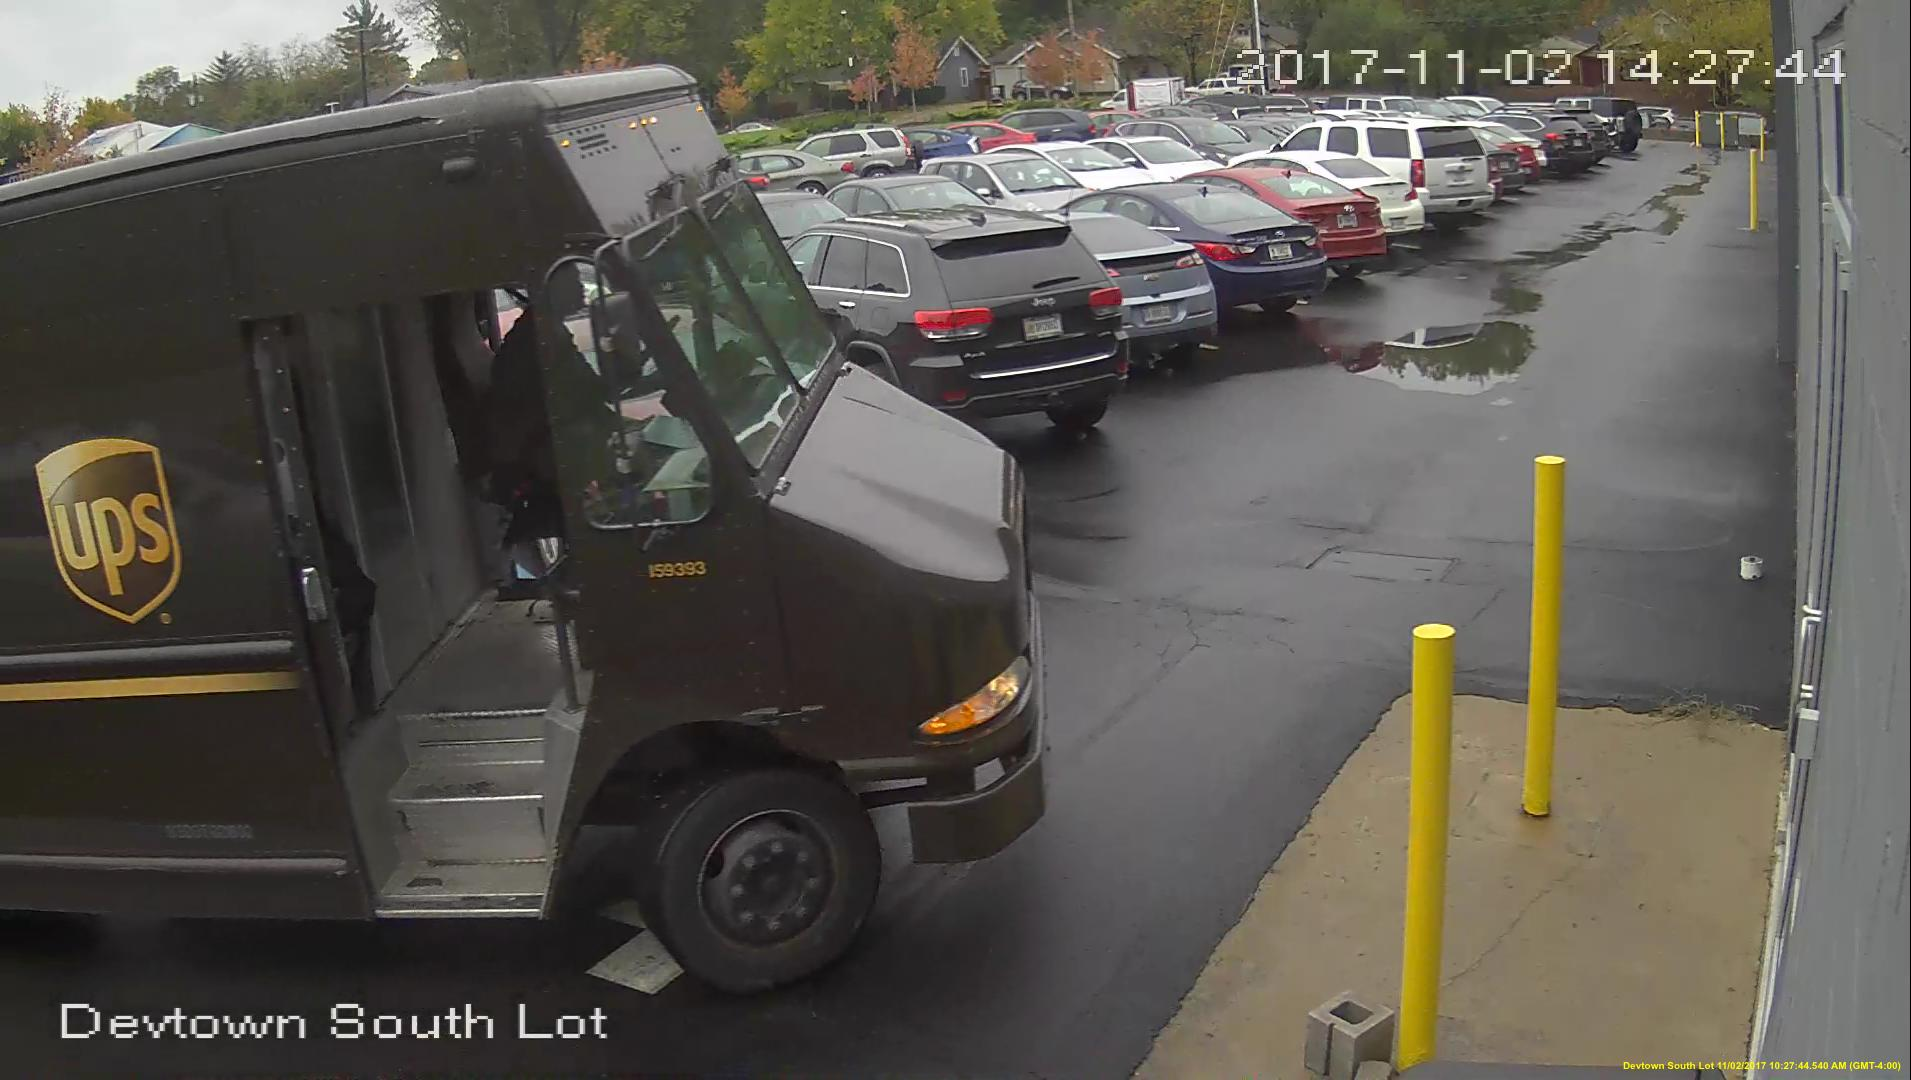ups_truck: (1, 67, 1038, 997)
